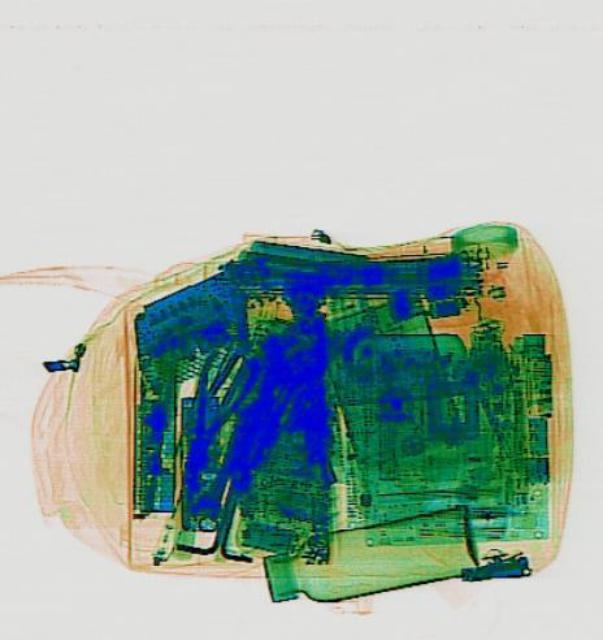Pliers: (161, 343, 256, 495)
